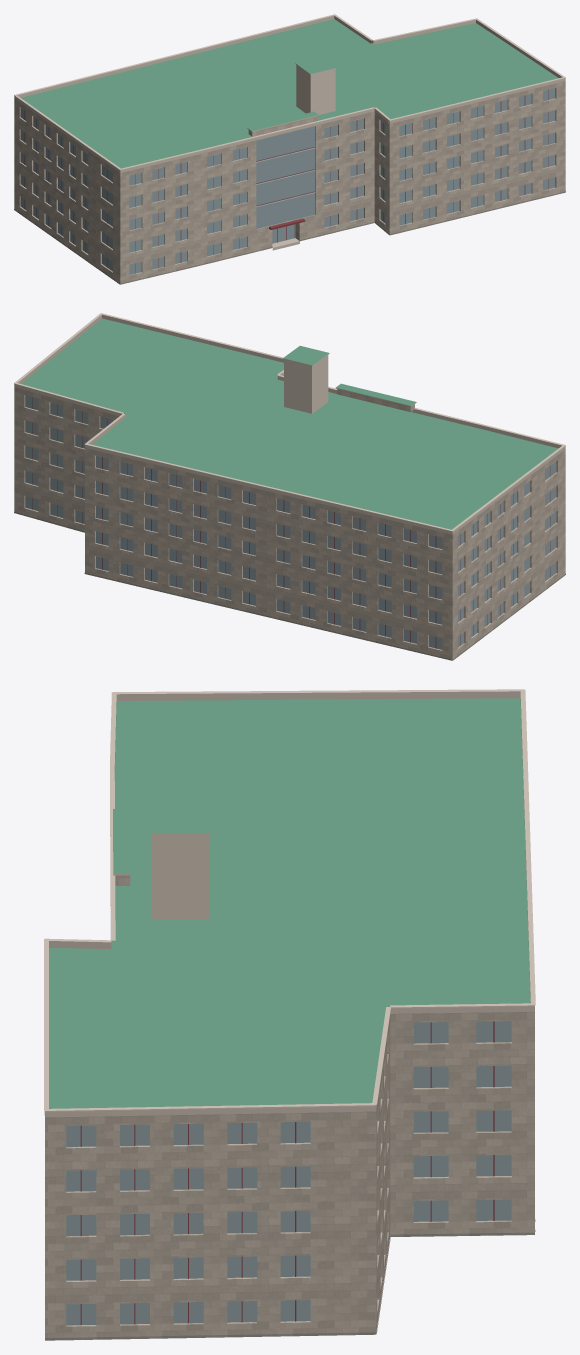
The picture shows the model from 3 angles, top to bottom: view 1: azimuth 30°, elevation 25°; view 2: azimuth 150°, elevation 25°; view 3: azimuth 270°, elevation 25°; orthographic projection. The views are drawn at different scales.
Visible parts, largest first — view 1: osm135973505__wall, osm135973505__roof, osm135973505__glass, osm135973505__trim, osm135973505__parapet, osm135973505__frame, osm135973505__base; view 2: osm135973505__wall, osm135973505__roof, osm135973505__glass, osm135973505__trim, osm135973505__parapet, osm135973505__frame, osm135973505__base; view 3: osm135973505__roof, osm135973505__wall, osm135973505__glass, osm135973505__trim, osm135973505__parapet, osm135973505__base, osm135973505__frame.
Boxes of the visible parts, bbox=[...] form: osm135973505__wall: bbox=[14, 81, 565, 284]; osm135973505__roof: bbox=[21, 19, 558, 168]; osm135973505__glass: bbox=[20, 88, 555, 274]; osm135973505__trim: bbox=[14, 14, 565, 170]; osm135973505__parapet: bbox=[14, 15, 565, 172]; osm135973505__frame: bbox=[24, 90, 548, 273]; osm135973505__base: bbox=[14, 191, 565, 284]; osm135973505__wall: bbox=[14, 387, 565, 660]; osm135973505__roof: bbox=[21, 318, 558, 529]; osm135973505__glass: bbox=[25, 395, 556, 649]; osm135973505__trim: bbox=[14, 313, 565, 531]; osm135973505__parapet: bbox=[14, 314, 565, 534]; osm135973505__frame: bbox=[32, 397, 550, 648]; osm135973505__base: bbox=[14, 511, 565, 660]; osm135973505__roof: bbox=[49, 698, 530, 1340]; osm135973505__wall: bbox=[45, 875, 534, 1338]; osm135973505__glass: bbox=[66, 1021, 511, 1325]; osm135973505__trim: bbox=[44, 689, 535, 1112]; osm135973505__parapet: bbox=[44, 691, 534, 1117]; osm135973505__base: bbox=[45, 1219, 535, 1340]; osm135973505__frame: bbox=[80, 1021, 494, 1325].
Bounding box in the file's own units: 73.02 × 25.4 × 35.98.
10 materials, 2 textured.
